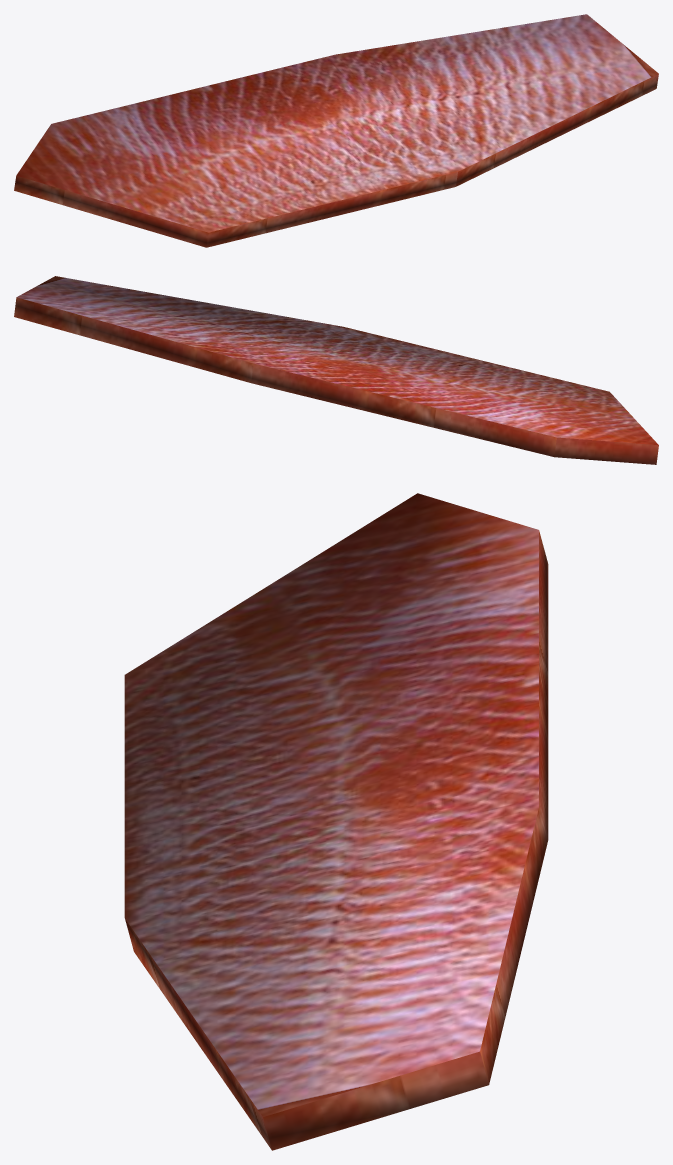
The model's file is tuna.dae.
3 renders of one model, top to bottom at view 1: azimuth 30°, elevation 25°; view 2: azimuth 150°, elevation 25°; view 3: azimuth 270°, elevation 25°, orthographic. The views are drawn at different scales.
Visible parts, largest first — view 1: group_1; view 2: group_1; view 3: group_1.
Part boxes in pixels (x1=…): group_1: x1=14, y1=14, x2=658, y2=247; group_1: x1=14, y1=276, x2=658, y2=464; group_1: x1=124, y1=493, x2=548, y2=1150.
Size of the model in its own units: 10.32 by 3.13 by 1.03.
Materials: 1 (1 with a texture image).
